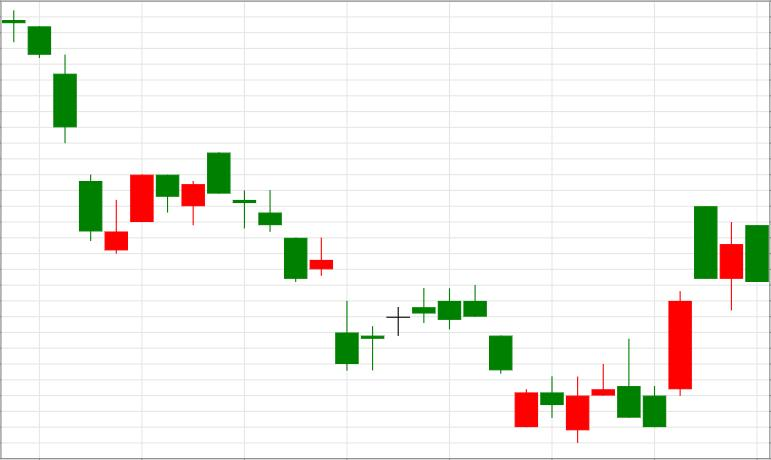inverse_hammer_rise: (3, 9, 128, 254)
morning_star_rise: (3, 9, 153, 254)
